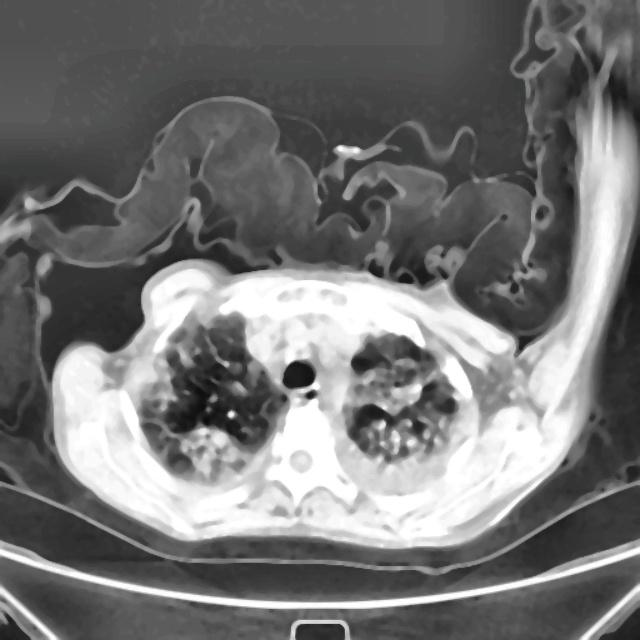covid: (3, 1, 637, 559)
